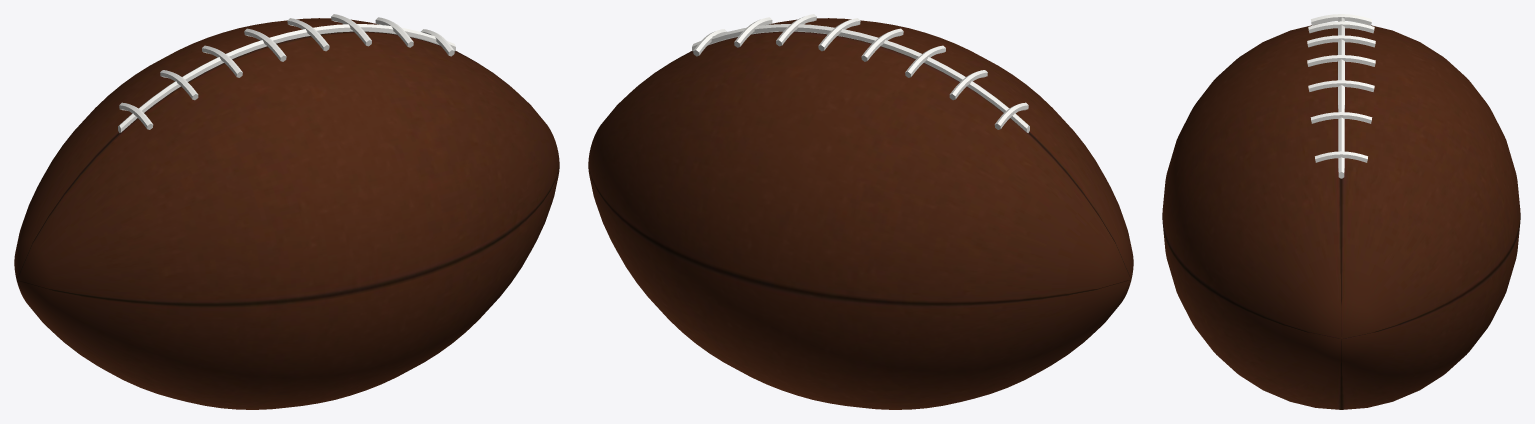
File: football_nfl.glb
The picture shows the model from 3 angles, left to right: view 1: azimuth 30°, elevation 25°; view 2: azimuth 150°, elevation 25°; view 3: azimuth 270°, elevation 25°; orthographic projection. The views are drawn at different scales.
Visible parts, largest first — view 1: football_nfl; view 2: football_nfl; view 3: football_nfl.
Part boxes in pixels (x1,y1,x2,y2): football_nfl: [14, 14, 559, 409]; football_nfl: [588, 14, 1133, 409]; football_nfl: [1162, 14, 1520, 409].
Size of the model in its own units: 0.2819 by 0.1782 by 0.1736.
Materials: 2 (1 with a texture image).
